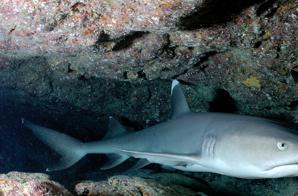Shark -Selachimorpha-: (18, 78, 298, 177)
